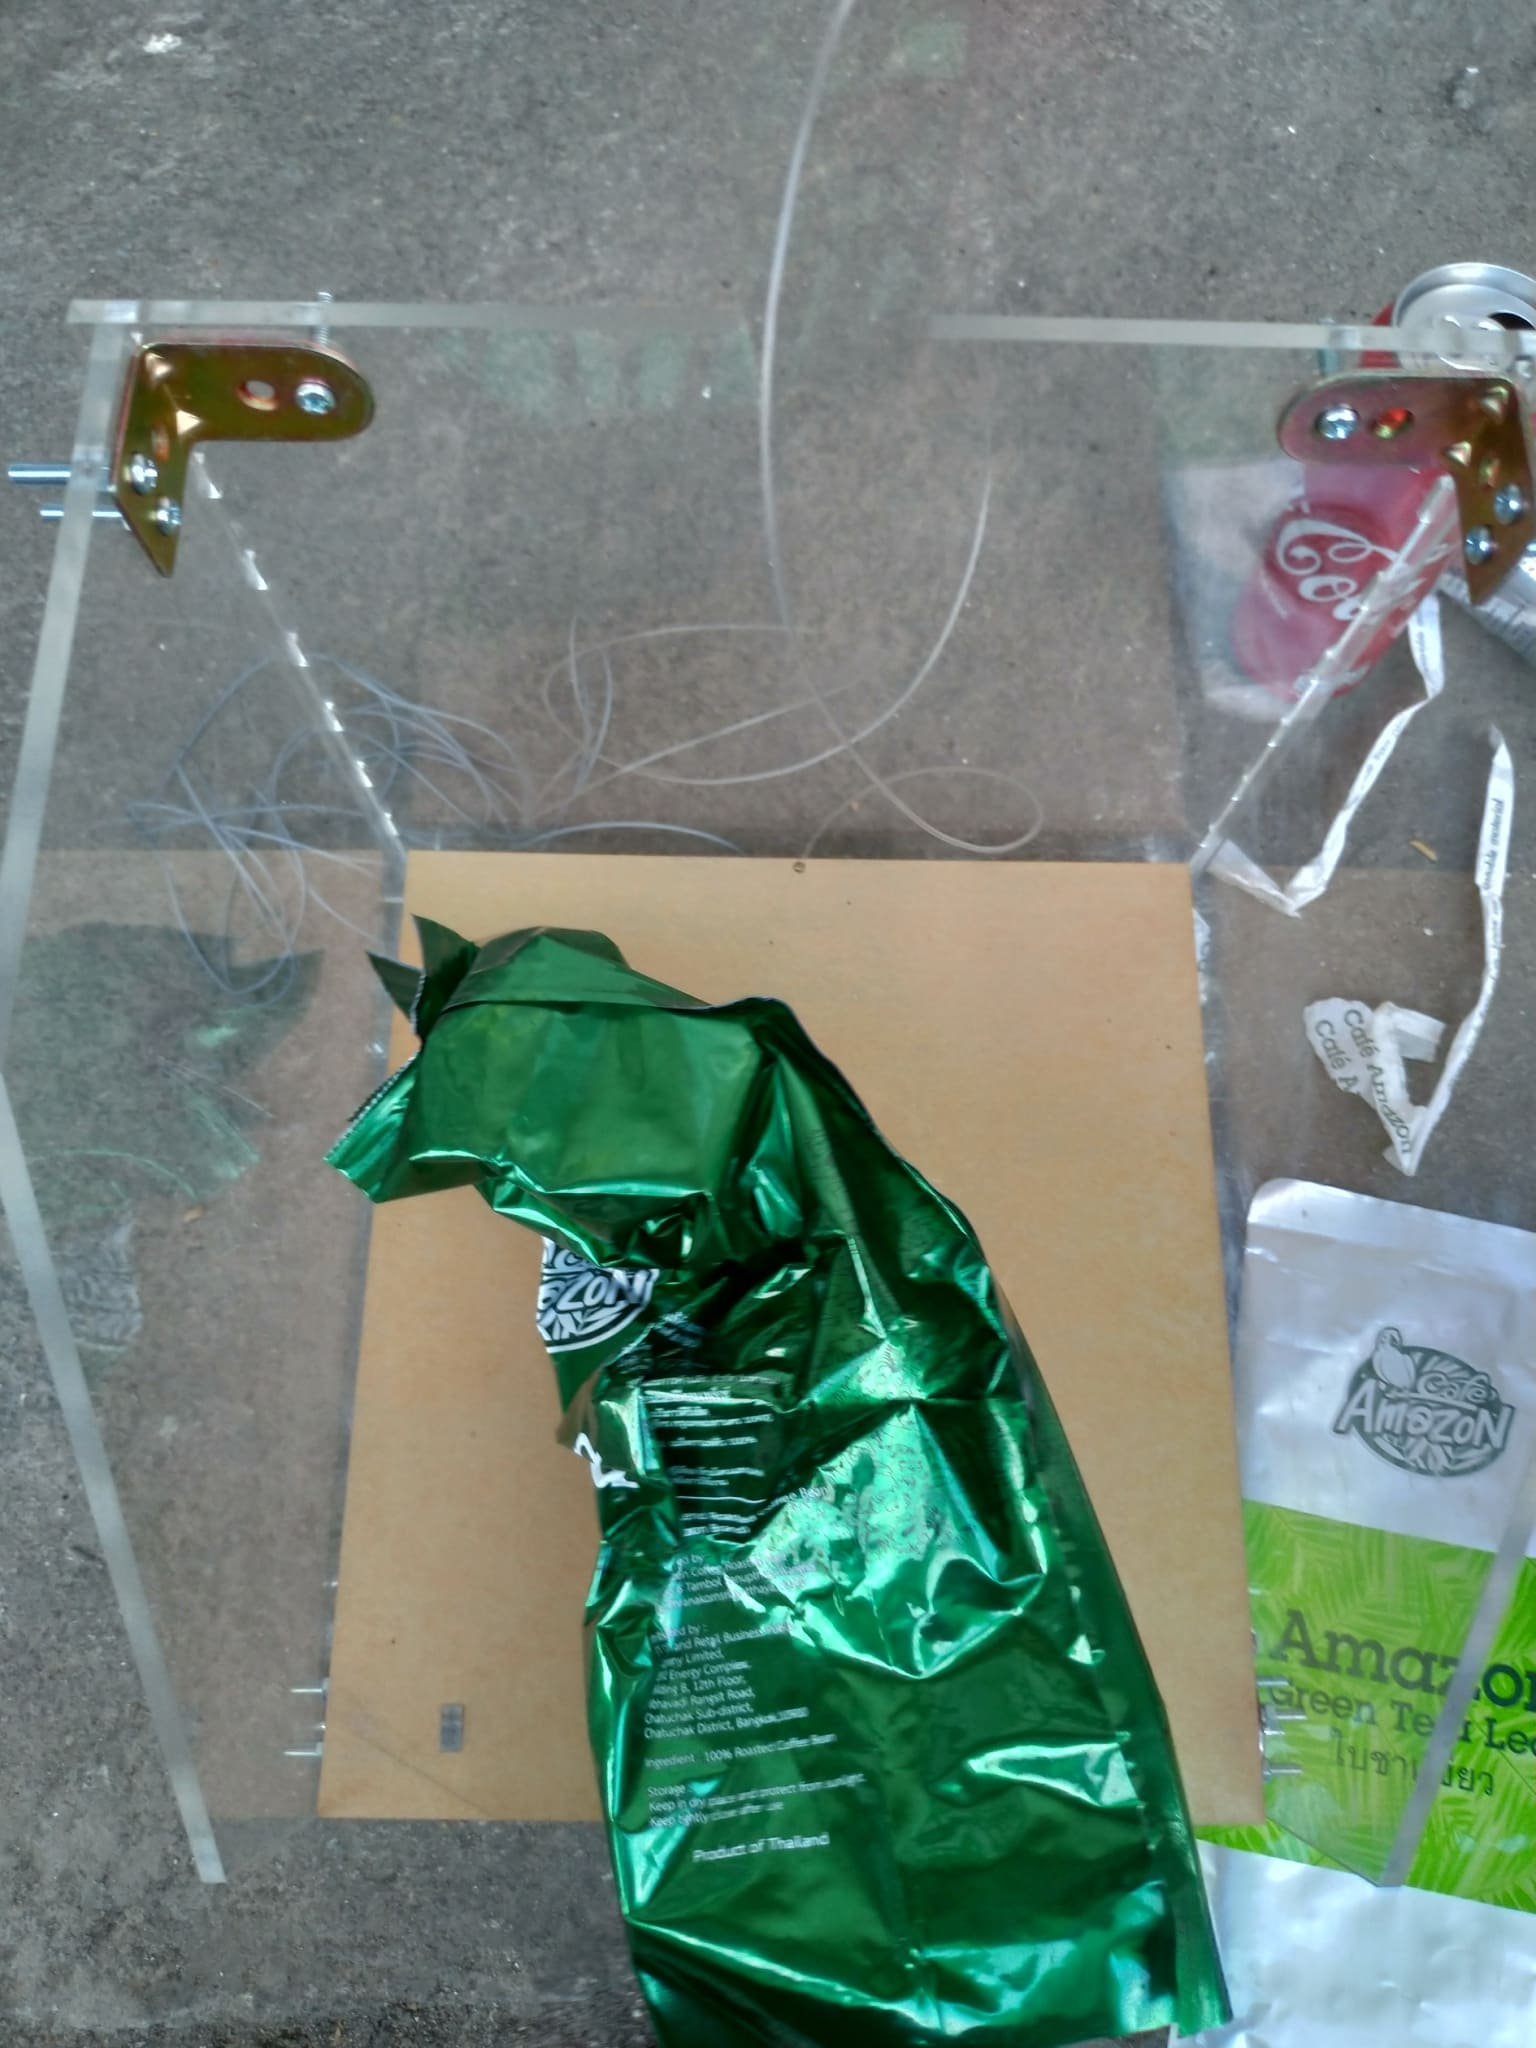AlCan: (1233, 255, 1536, 701)
Others: (332, 927, 1234, 2037), (1221, 1180, 1533, 2048), (1307, 727, 1530, 1177), (1204, 598, 1447, 922)
